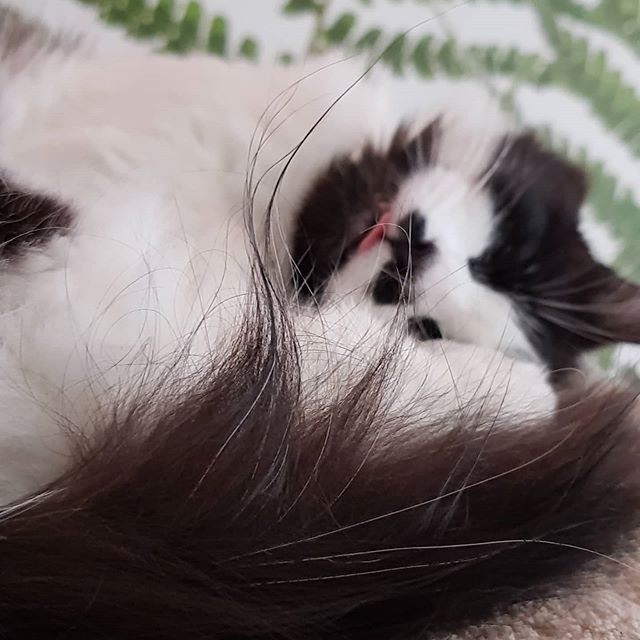cat: (300, 124, 640, 453)
